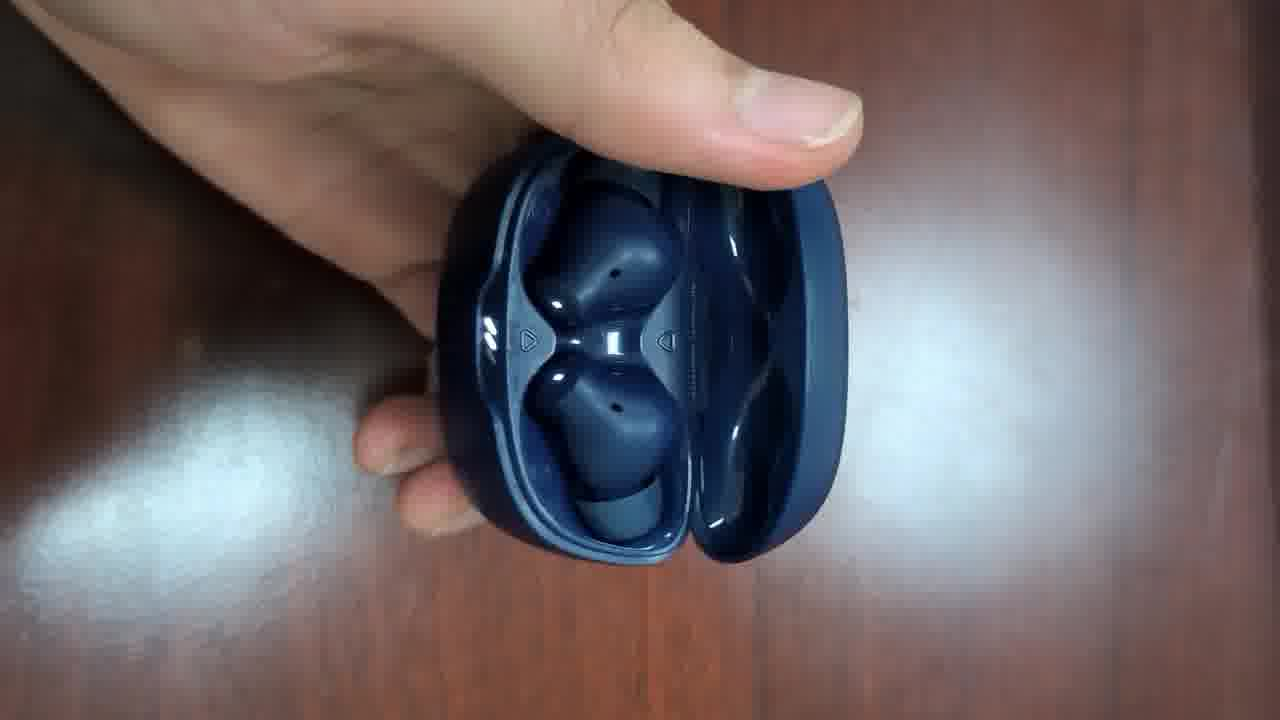Case: (437, 135, 847, 563)
Earbud: (528, 353, 675, 541), (526, 181, 680, 327)
